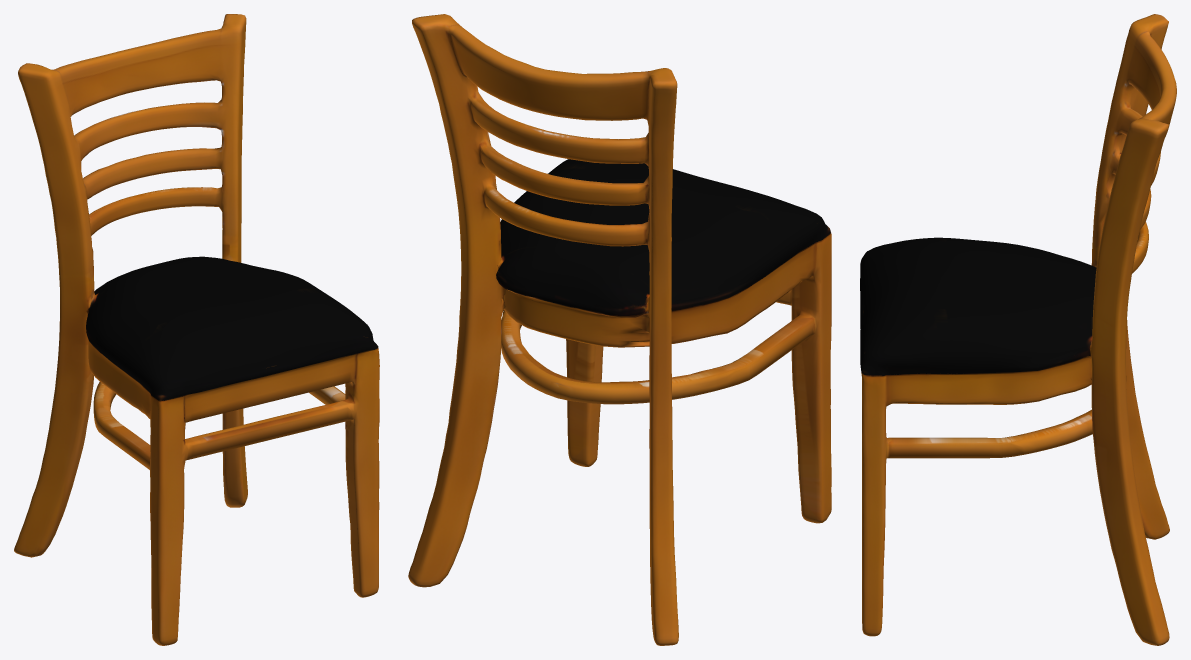
File: chair.glb
3 views of the same model, side by side, from view 1: azimuth 30°, elevation 25°; view 2: azimuth 150°, elevation 25°; view 3: azimuth 270°, elevation 25° (orthographic). The views are drawn at different scales.
Parts seen in each view (by area): view 1: model; view 2: model; view 3: model.
Part boxes in pixels (x1,y1,x2,y2): model: [14, 14, 379, 645]; model: [408, 14, 831, 645]; model: [860, 14, 1176, 645].
Size of the model in its own units: 0.451 by 0.9015 by 0.5.
Materials: 1 (1 with a texture image).
